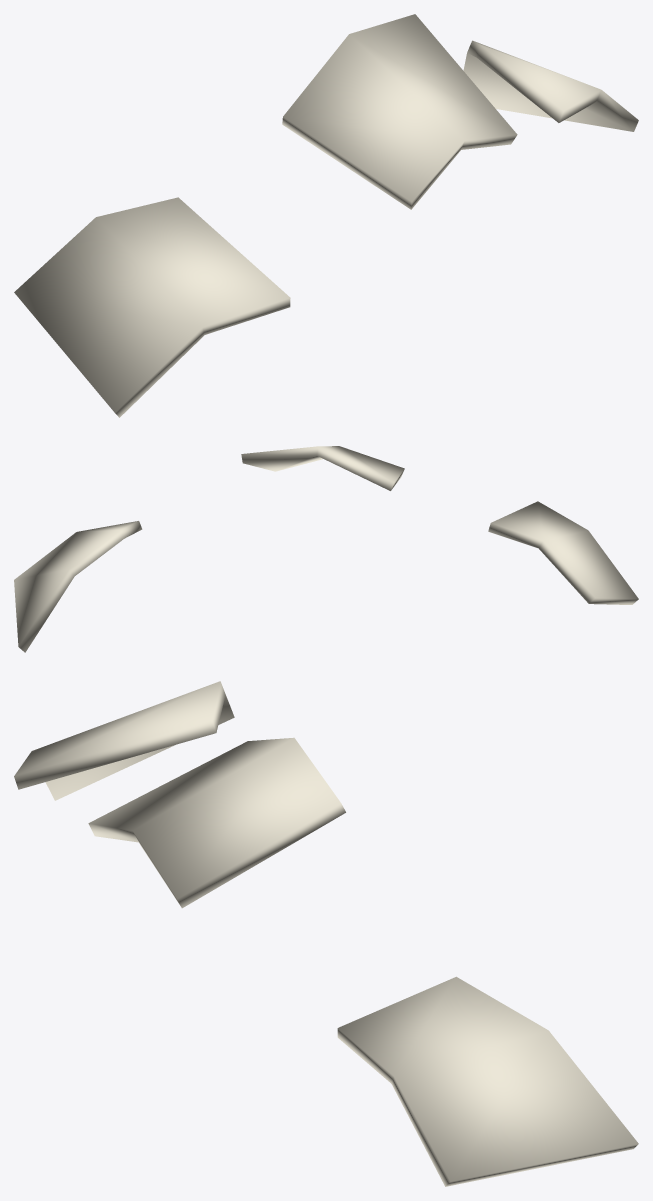
3 views of the same model, one above another, from view 1: azimuth 30°, elevation 25°; view 2: azimuth 150°, elevation 25°; view 3: azimuth 270°, elevation 25° (orthographic). The views are drawn at different scales.
Parts seen in each view (by area): view 1: ZA_7851226bea59b66e; view 2: ZA_7851226bea59b66e; view 3: ZA_7851226bea59b66e.
Part boxes in pixels (x1,y1,x2,y2): ZA_7851226bea59b66e: [14, 14, 638, 417]; ZA_7851226bea59b66e: [14, 446, 638, 652]; ZA_7851226bea59b66e: [14, 681, 638, 1186].
Size of the model in its own units: 0.0314 by 0.0101 by 0.0212.
